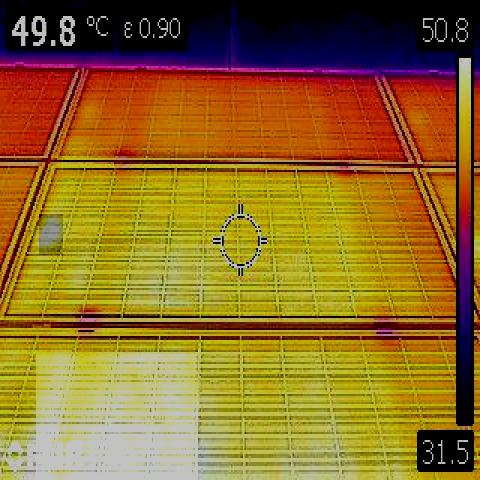fault: (36, 354, 198, 480), (39, 214, 63, 255)
